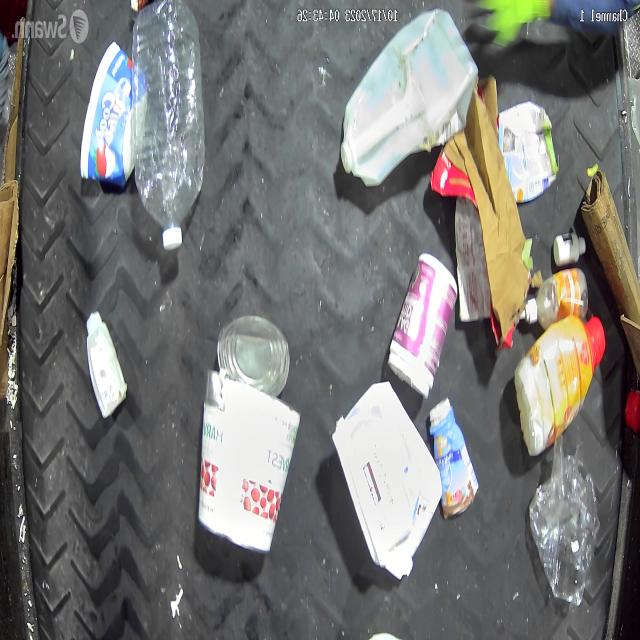can: (216, 313, 291, 400)
milk_jug: (340, 7, 480, 185)
plastic_bottle: (131, 2, 204, 253)
